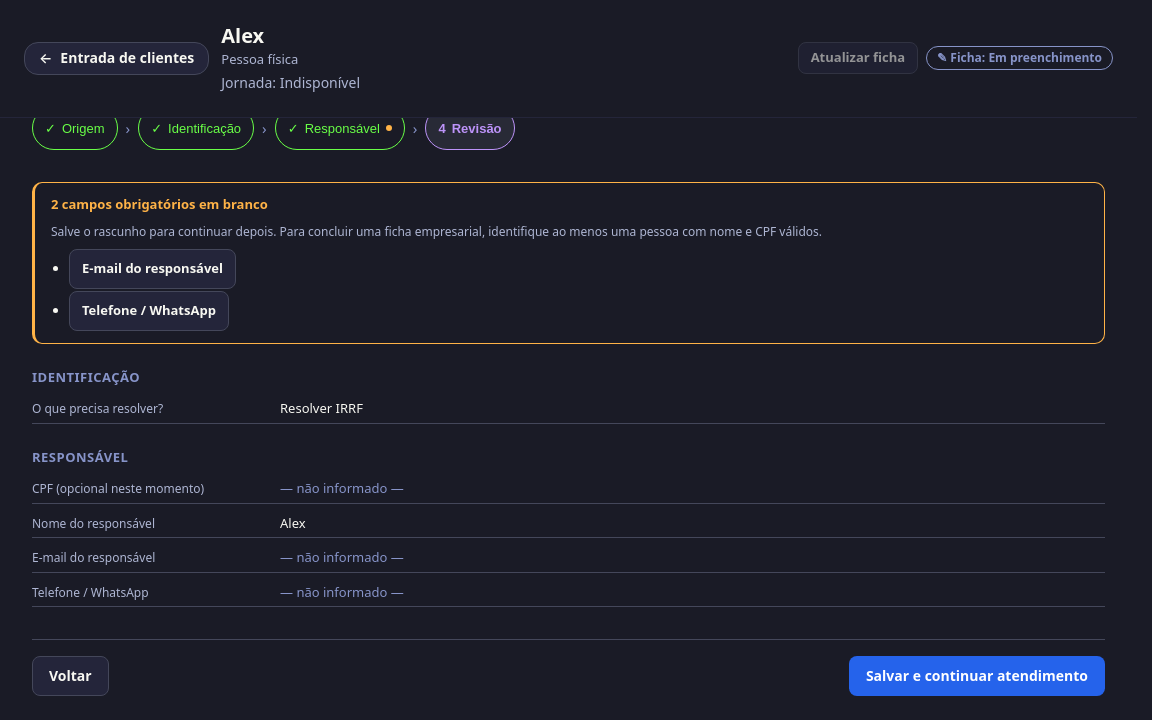
it: ficha PF continua na mesma página sem criar empresa ou perder o serviço pessoal
(page scrolled)
Click the button "Salvar e continuar atendimento" at (977, 676), box [849,656,1105,696]
(page scrolled)
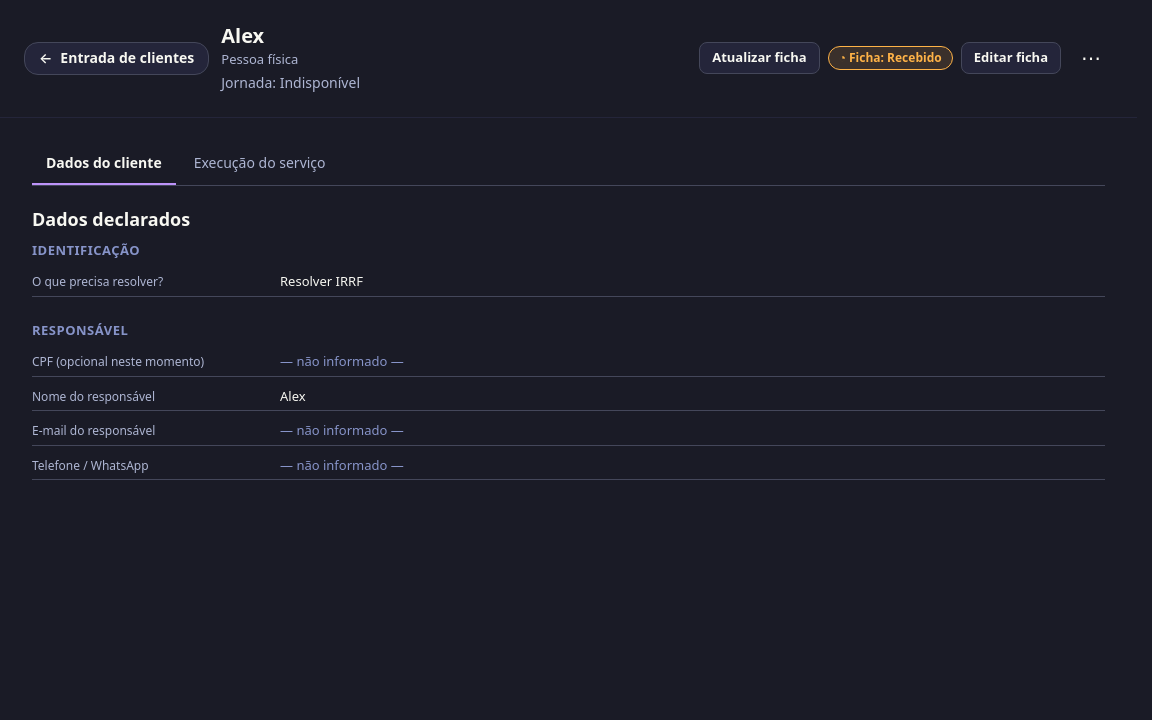
Expected: the text "Resolver IRRF" is shown, [280,272,363,290]
Expected: the element named "Dados do cliente" is shown, [32,206,1105,480]
